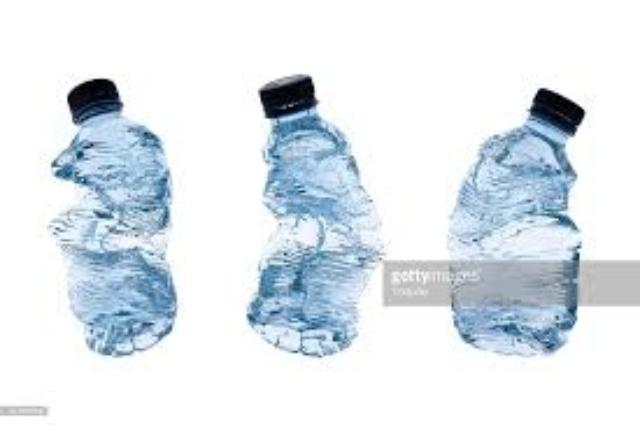plastic: (244, 72, 379, 351), (447, 86, 579, 351), (49, 77, 172, 351)
